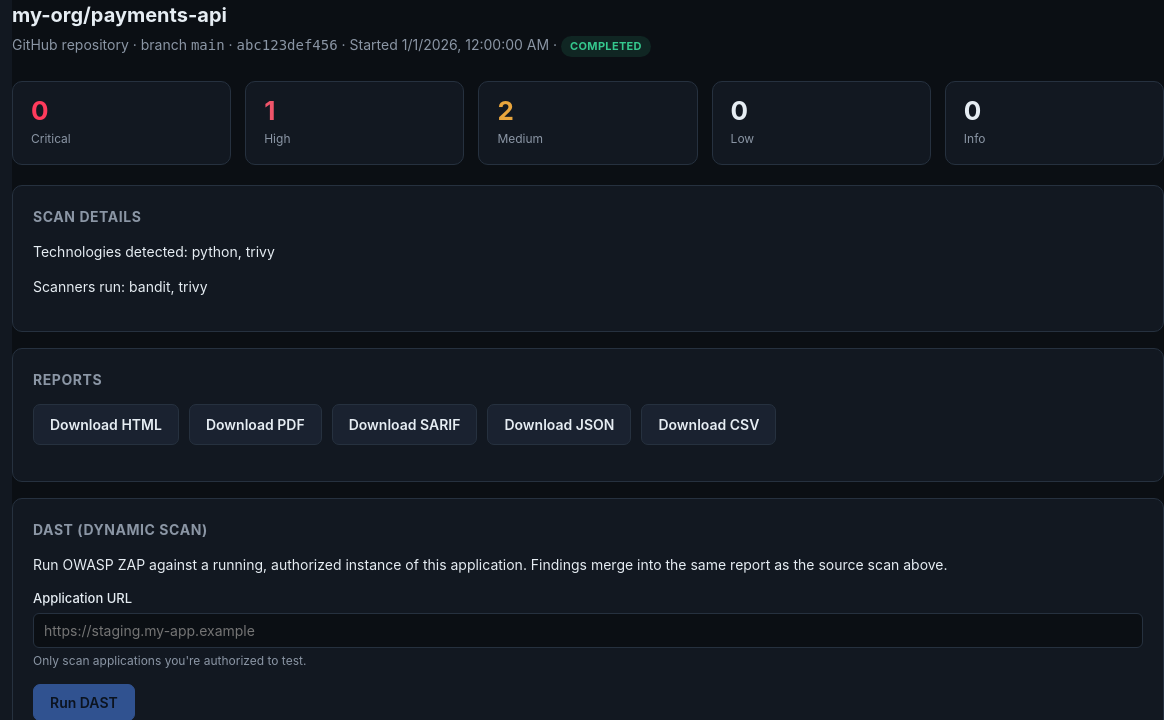
CodeScanDetail › shows an error banner when starting DAST fails
The width and height of the screenshot is (1164, 720).
Type "https://staging.example" into the field labelled "Application URL" at (588, 630), box [33,613,1143,648]
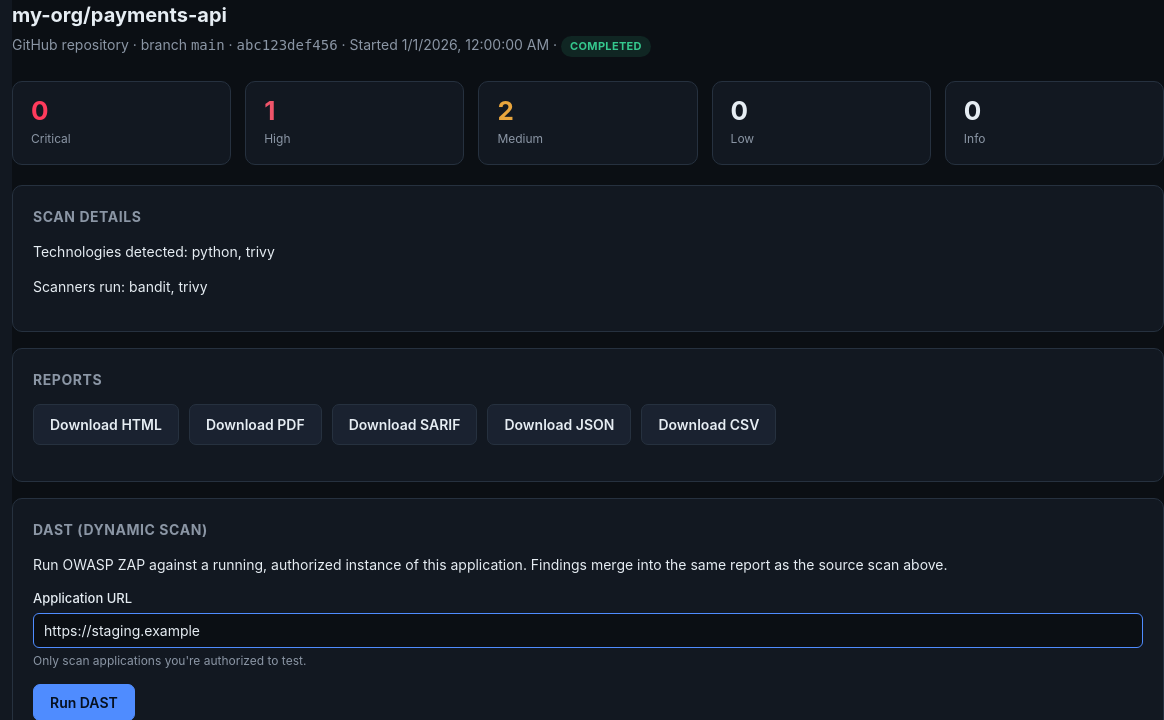
Click the button "Run DAST" at (84, 702), box [33,684,135,719]
(page scrolled)
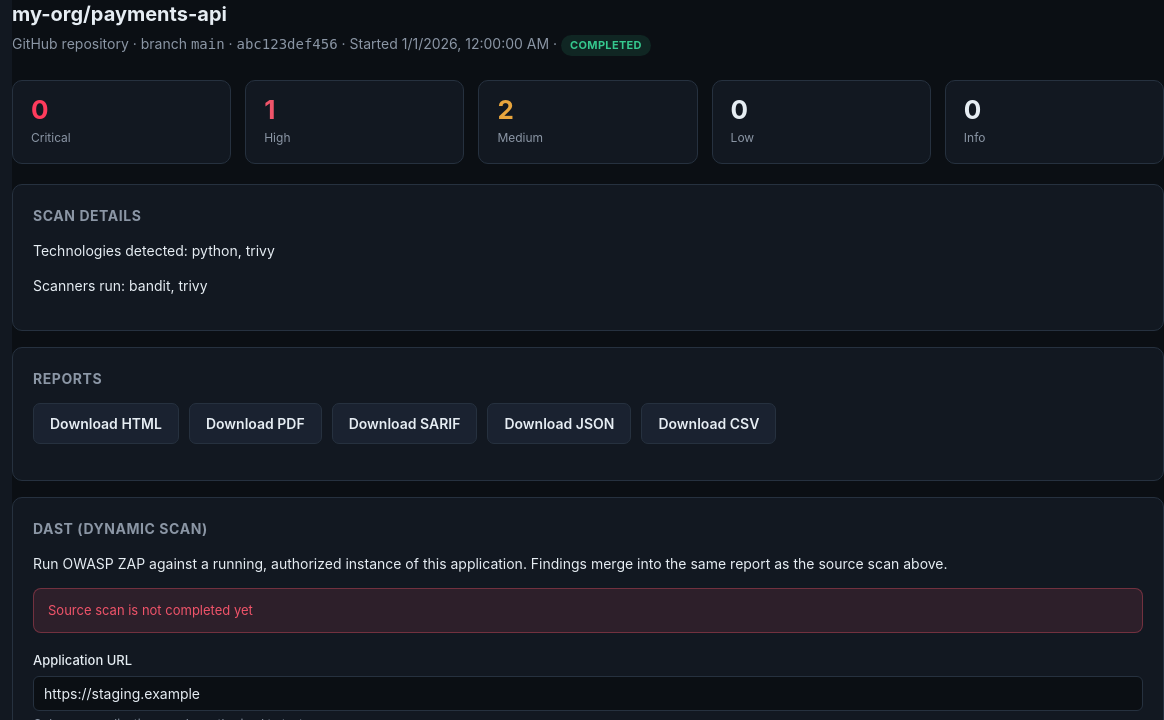
Expected: the text "Source scan is not completed yet" is shown, [33,588,1143,633]
